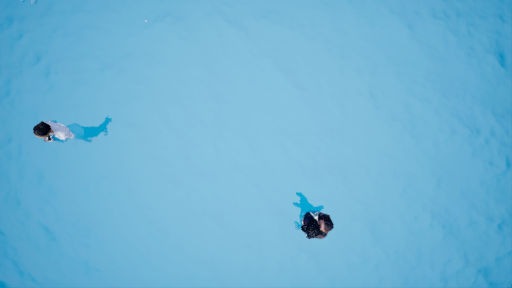person: (28, 113, 121, 146), (297, 194, 338, 245)
